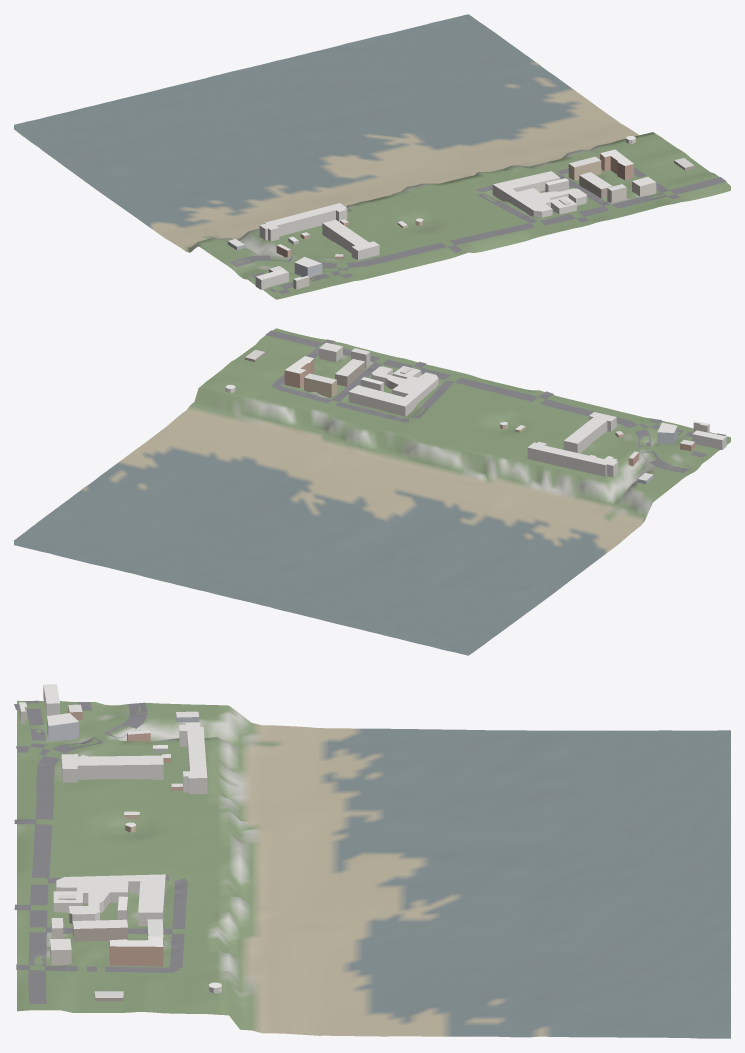
3 views of the same model, one above another, from view 1: azimuth 30°, elevation 25°; view 2: azimuth 150°, elevation 25°; view 3: azimuth 270°, elevation 25° (orthographic). The views are drawn at different scales.
Visible parts, largest first — view 1: prim0, prim1, prim2; view 2: prim0, prim1, prim2; view 3: prim0, prim1, prim2.
Part boxes in pixels (box(x1,y1,x2,y2)): prim0: box(14, 14, 730, 299); prim1: box(227, 136, 694, 289); prim2: box(229, 167, 726, 294); prim0: box(14, 328, 730, 655); prim1: box(225, 342, 726, 484); prim2: box(265, 330, 726, 473); prim0: box(17, 700, 730, 1038); prim1: box(19, 684, 221, 1001); prim2: box(14, 700, 187, 1003).
Bounding box in the file's own units: 520 × 40.26 × 514.
